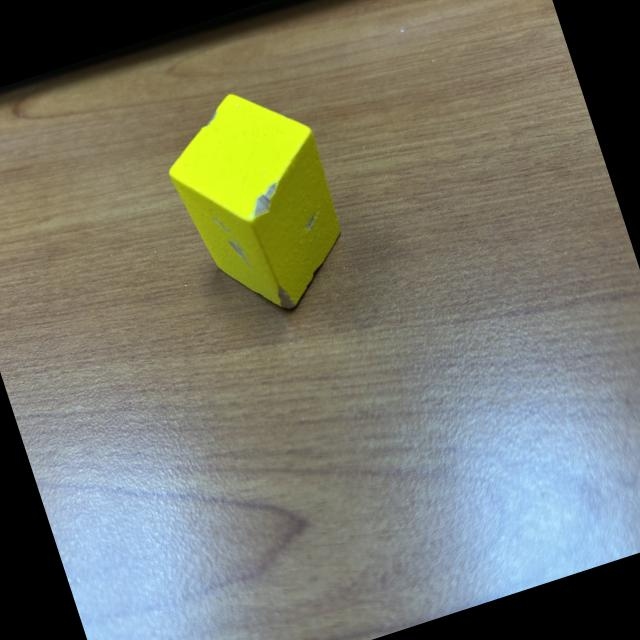broken: (150, 72, 363, 334)
